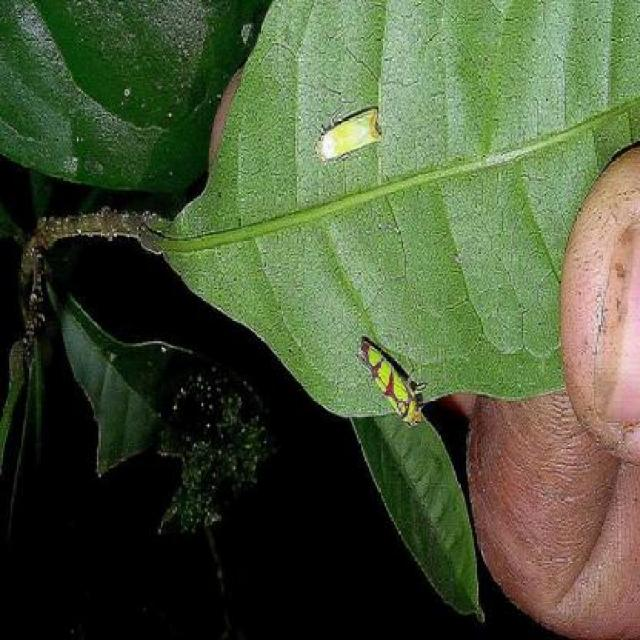green-leafhopper: (358, 337, 424, 431), (312, 100, 385, 166)
